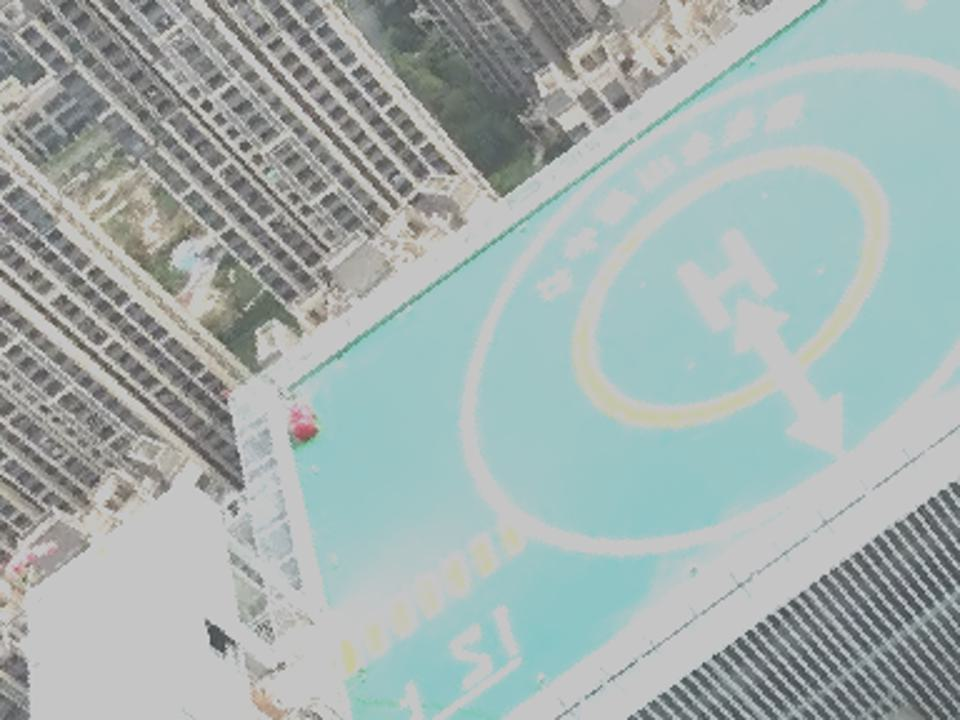Apron: (566, 146, 894, 426)
